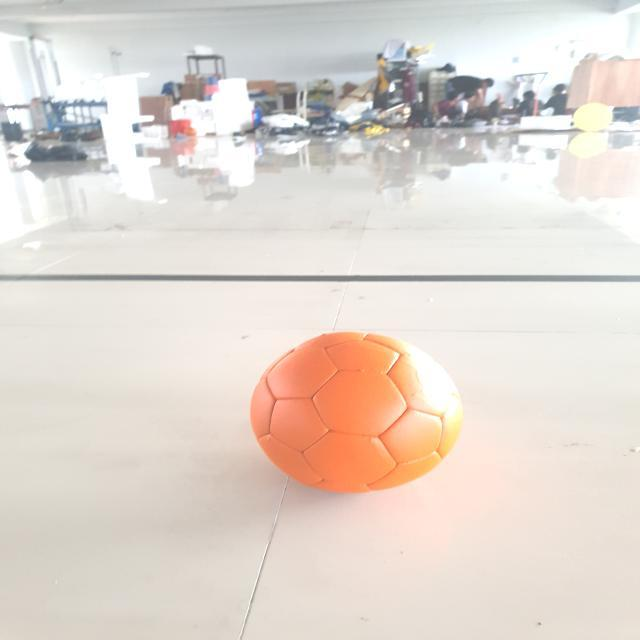bola: (212, 322, 491, 506)
